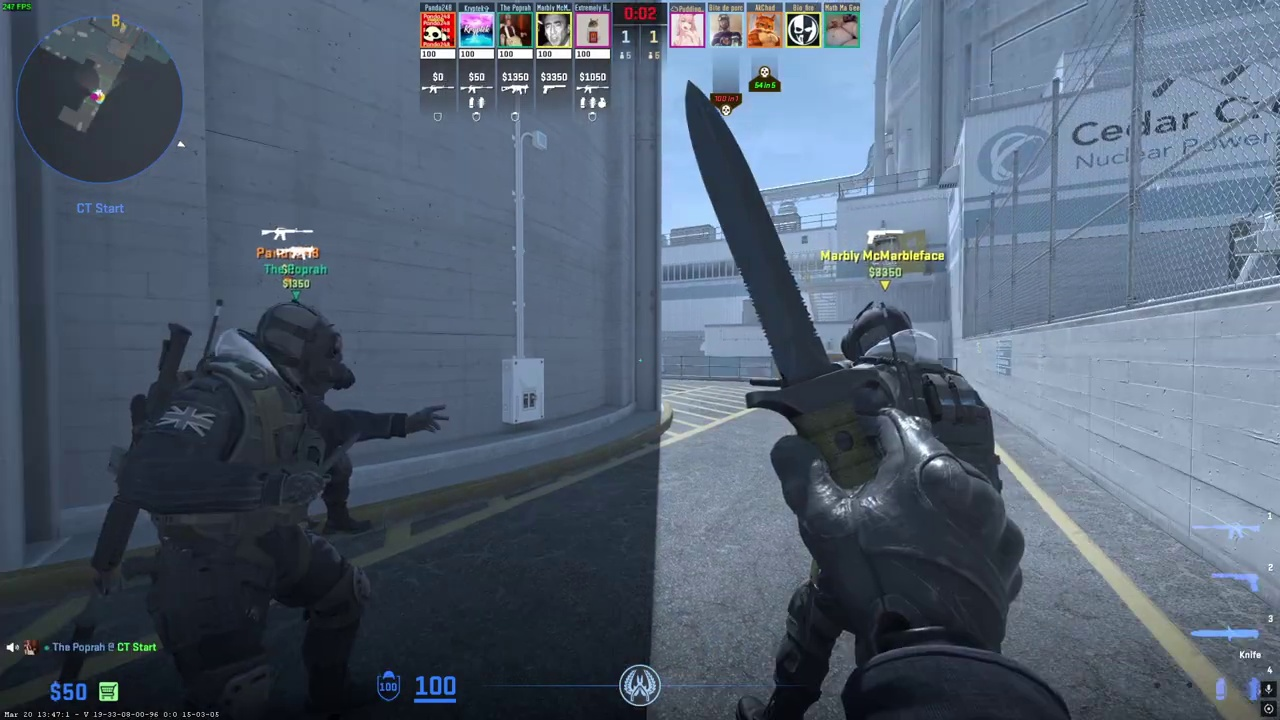CT: (130, 300, 370, 720), (819, 300, 983, 718)
